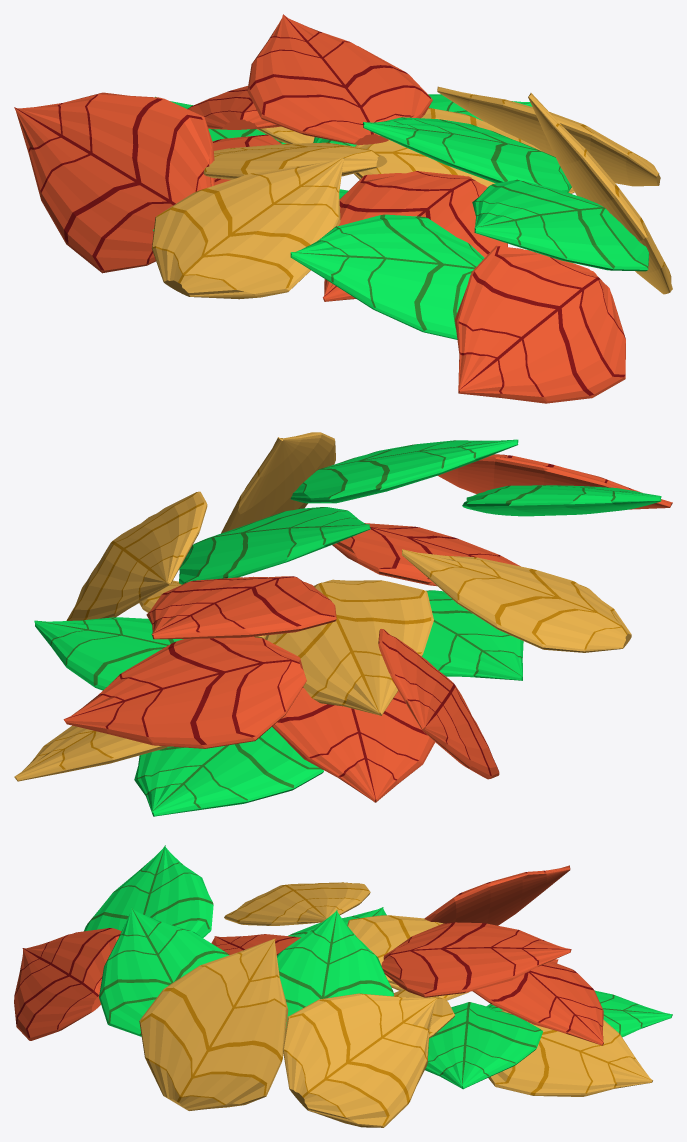
Rendered from LeafPile.fbx.
3 renders of one model, top to bottom at view 1: azimuth 30°, elevation 25°; view 2: azimuth 150°, elevation 25°; view 3: azimuth 270°, elevation 25°, orthographic. The views are drawn at different scales.
Visible parts, largest first — view 1: RedLeaf.006, RedLeaf.005, OrangeLeaf.005, RedLeaf.004, GreenLeaf.005, GreenLeaf.006, GreenLeaf.004, RedLeaf.003, OrangeLeaf.004, OrangeLeaf.006, OrangeLeaf.003, OrangeLeaf.002 (+4 smaller); view 2: RedLeaf.002, OrangeLeaf.003, OrangeLeaf.005, RedLeaf, GreenLeaf, RedLeaf.004, OrangeLeaf.004, GreenLeaf.004, GreenLeaf.006, RedLeaf.006, GreenLeaf.002, GreenLeaf.003 (+5 smaller); view 3: OrangeLeaf.006, OrangeLeaf.004, RedLeaf.004, RedLeaf.005, GreenLeaf.006, OrangeLeaf, GreenLeaf.004, GreenLeaf.002, GreenLeaf.005, RedLeaf.002, OrangeLeaf.005, RedLeaf.006 (+4 smaller).
Boxes of the visible parts, box(x1,y1,x2,y2) form: RedLeaf.006: box(14, 92, 214, 273); RedLeaf.005: box(455, 245, 625, 403); OrangeLeaf.005: box(151, 156, 344, 299); RedLeaf.004: box(247, 14, 432, 144); GreenLeaf.005: box(290, 214, 484, 339); GreenLeaf.006: box(472, 179, 649, 271); GreenLeaf.004: box(363, 117, 571, 192); RedLeaf.003: box(323, 171, 507, 301); OrangeLeaf.004: box(437, 86, 660, 186); OrangeLeaf.006: box(528, 93, 672, 294); OrangeLeaf.003: box(203, 142, 387, 179); OrangeLeaf.002: box(354, 108, 574, 193); RedLeaf.002: box(63, 636, 306, 748); OrangeLeaf.003: box(263, 579, 433, 715); OrangeLeaf.005: box(402, 549, 631, 652); RedLeaf: box(272, 687, 435, 802); GreenLeaf: box(134, 727, 323, 816); RedLeaf.004: box(146, 576, 336, 639); OrangeLeaf.004: box(66, 491, 207, 620); GreenLeaf.004: box(179, 507, 370, 584); GreenLeaf.006: box(290, 439, 518, 503); RedLeaf.006: box(378, 629, 499, 779); GreenLeaf.002: box(34, 617, 183, 690); GreenLeaf.003: box(422, 590, 523, 680); OrangeLeaf.006: box(139, 938, 288, 1110); OrangeLeaf.004: box(283, 993, 436, 1127); RedLeaf.004: box(381, 922, 571, 997); RedLeaf.005: box(14, 928, 121, 1040); GreenLeaf.006: box(99, 907, 229, 1036); OrangeLeaf: box(488, 1010, 652, 1096); GreenLeaf.004: box(277, 910, 393, 1029); GreenLeaf.002: box(425, 1002, 542, 1089); GreenLeaf.005: box(84, 845, 213, 937); RedLeaf.002: box(472, 961, 603, 1045); OrangeLeaf.005: box(224, 882, 370, 925); RedLeaf.006: box(424, 865, 570, 925).
Size of the model in its own units: 483 by 165 by 690.
